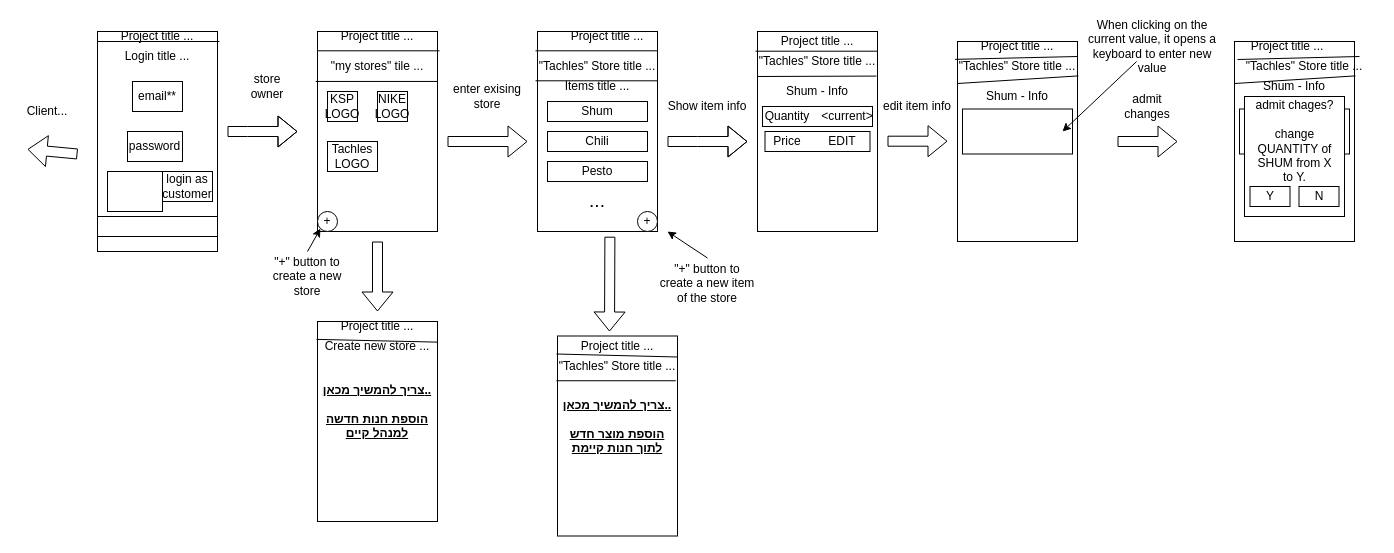
Some shapes in this 1394 by 553 pixel diagram are drawn without their labels. Here are the shapes that lost their labels. From the top down, the box of each, then its label:
(962, 108, 1072, 154): <enter new value>
(106, 170, 162, 212): login as owner
(96, 216, 218, 236): register
